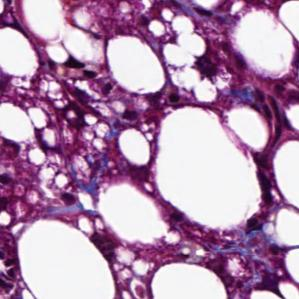inflammation: (59, 85, 100, 126)
